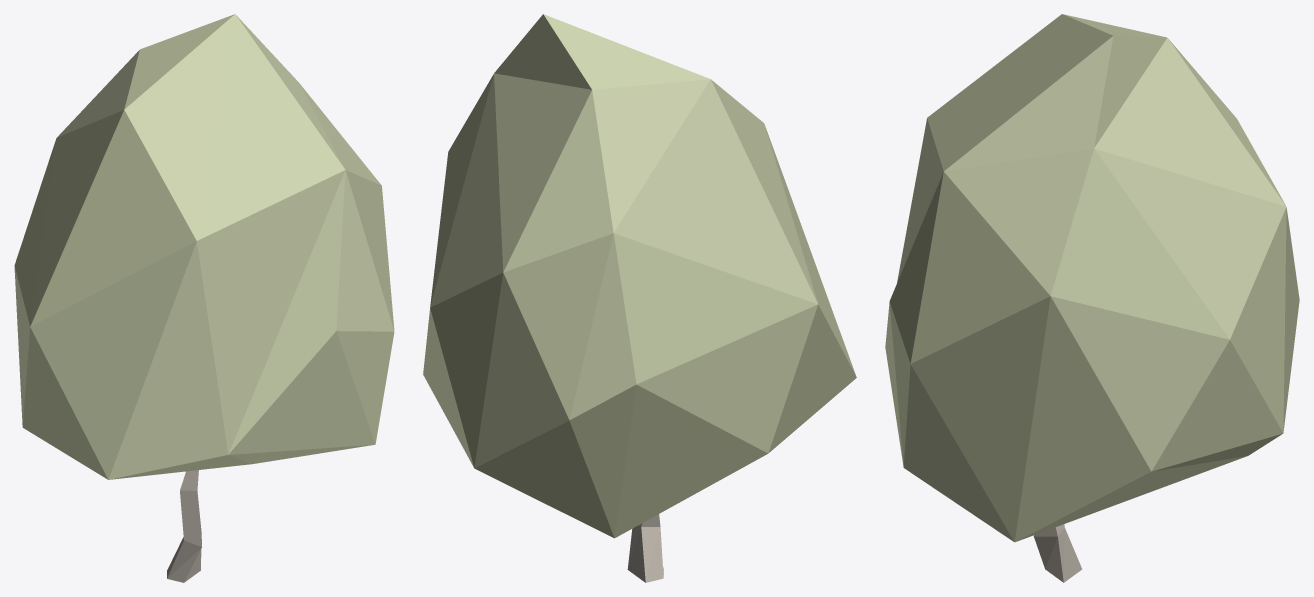
Rendered from SorbusAria.glb.
3 renders of one model, left to right at view 1: azimuth 30°, elevation 25°; view 2: azimuth 150°, elevation 25°; view 3: azimuth 270°, elevation 25°, orthographic. The views are drawn at different scales.
Visible parts, largest first — view 1: Crown, Trunk; view 2: Crown, Trunk; view 3: Crown, Trunk.
Boxes of the visible parts, x1,y1,x2,y2 form: Crown: (14,14,394,479); Trunk: (167,470,201,582); Crown: (423,14,856,538); Trunk: (627,514,663,582); Crown: (885,14,1299,542); Trunk: (1033,524,1082,582).
Size of the model in its own units: 6.2 by 8.9 by 5.79.
